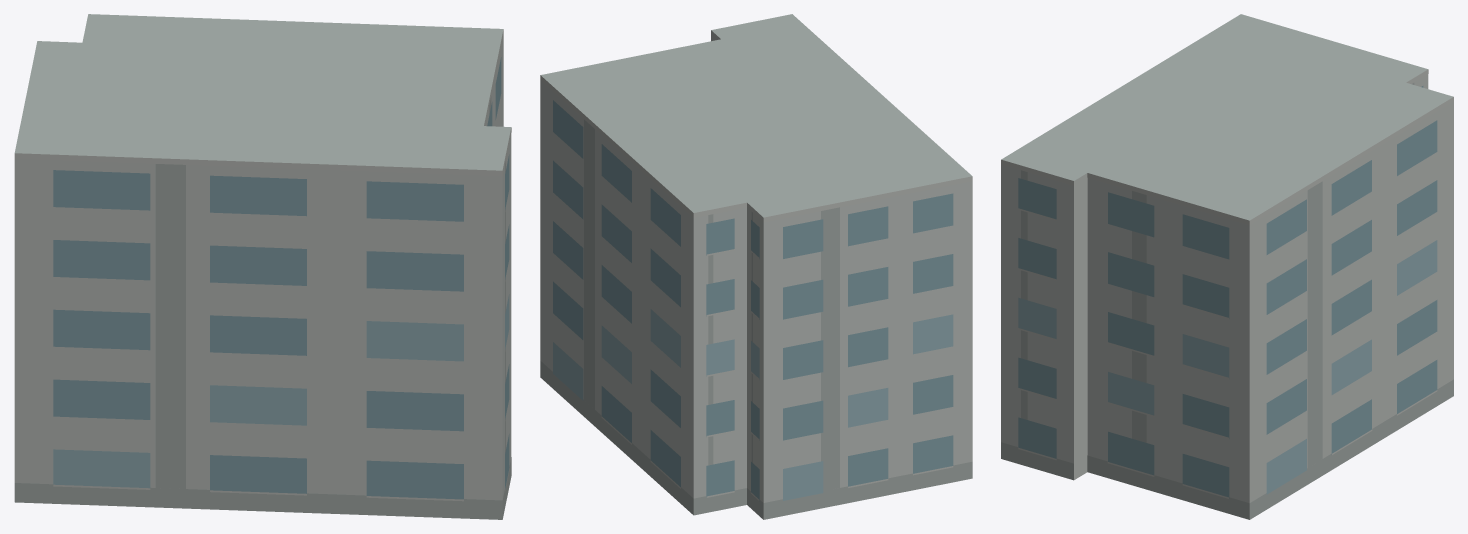
File: survey-upis-32953787.glb
The picture shows the model from 3 angles, left to right: view 1: azimuth 30°, elevation 25°; view 2: azimuth 150°, elevation 25°; view 3: azimuth 270°, elevation 25°; orthographic projection. The views are drawn at different scales.
Visible parts, largest first — view 1: survey-upis-32953787.tmp; view 2: survey-upis-32953787.tmp; view 3: survey-upis-32953787.tmp.
Part boxes in pixels (<box>): survey-upis-32953787.tmp: <box>14,14,511,519</box>; survey-upis-32953787.tmp: <box>540,14,972,519</box>; survey-upis-32953787.tmp: <box>1001,14,1453,519</box>.
Bounding box in the file's own units: 22.59 × 15.25 × 20.92.
